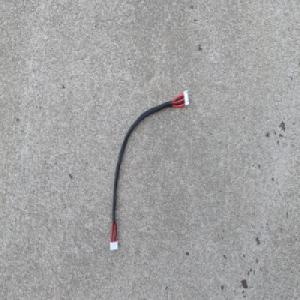Wire: (108, 87, 190, 253)
